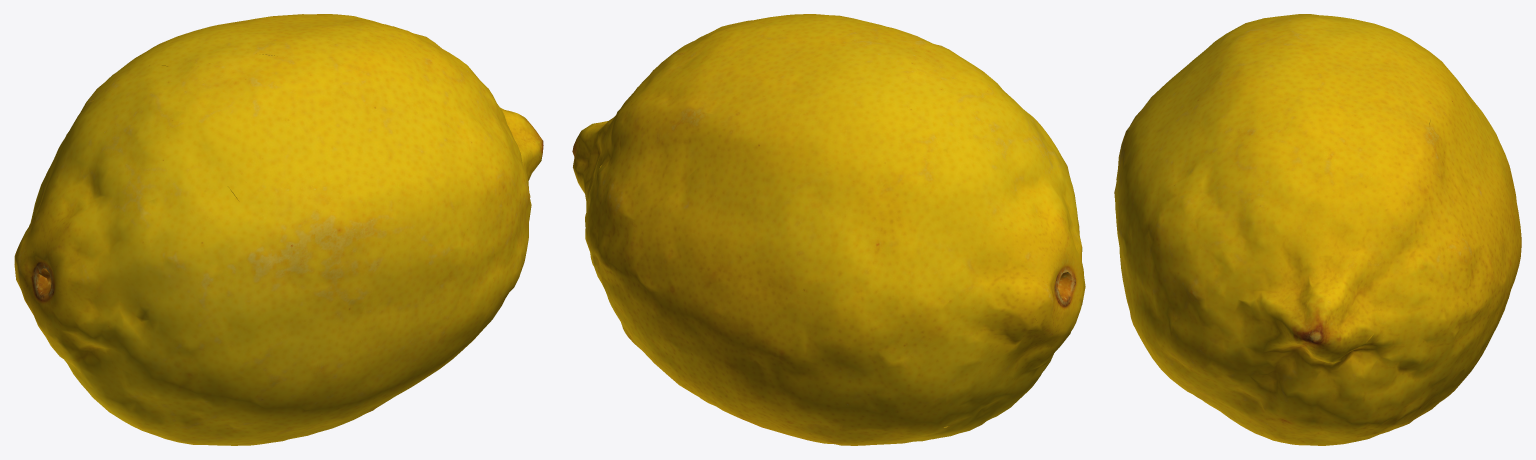
The model's file is lemon (2).glb.
3 views of the same model, side by side, from view 1: azimuth 30°, elevation 25°; view 2: azimuth 150°, elevation 25°; view 3: azimuth 270°, elevation 25° (orthographic). The views are drawn at different scales.
Visible parts, largest first — view 1: Object_2; view 2: Object_2; view 3: Object_2.
Boxes of the visible parts, box(x1,y1,x2,y2) form: Object_2: box(14, 14, 543, 445); Object_2: box(572, 14, 1085, 445); Object_2: box(1114, 14, 1521, 445).
Bounding box in the file's own units: 0.1393 × 0.1024 × 0.1006.
Materials: 1 (1 with a texture image).
